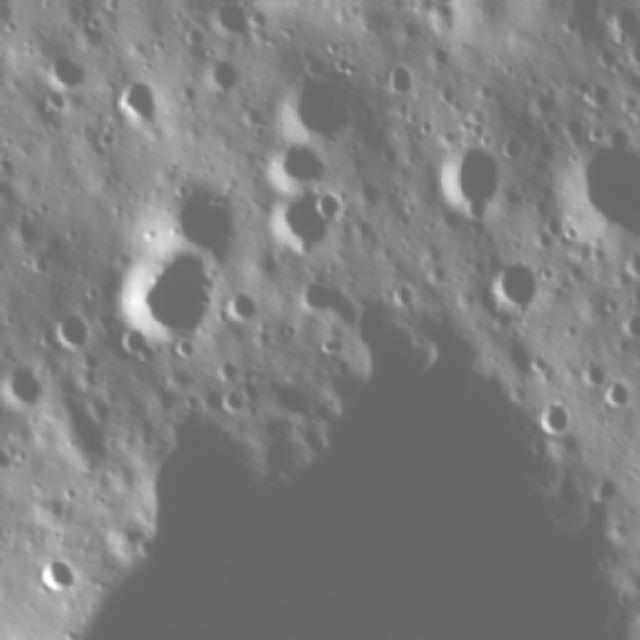crater: (102, 230, 216, 342), (561, 122, 640, 239), (160, 171, 242, 255), (422, 137, 504, 212), (287, 73, 351, 142), (488, 245, 534, 317), (263, 198, 332, 244), (260, 145, 335, 183), (38, 297, 88, 349), (0, 359, 48, 404), (121, 71, 159, 124), (38, 549, 78, 596), (47, 41, 90, 82), (589, 42, 629, 82), (600, 2, 638, 40), (208, 0, 249, 34), (11, 208, 54, 240), (206, 55, 242, 93), (383, 59, 419, 96), (224, 288, 262, 323), (490, 128, 532, 158), (575, 352, 611, 386), (537, 396, 571, 430), (304, 280, 341, 308), (173, 17, 209, 45), (586, 471, 620, 498), (316, 188, 350, 214), (607, 379, 633, 412), (220, 387, 248, 413), (216, 355, 244, 379), (252, 1, 274, 28), (0, 436, 15, 472), (275, 317, 299, 338), (528, 349, 552, 369), (610, 516, 630, 539), (43, 92, 68, 110), (539, 253, 552, 282), (60, 480, 77, 498), (0, 392, 6, 421), (62, 0, 96, 2)
